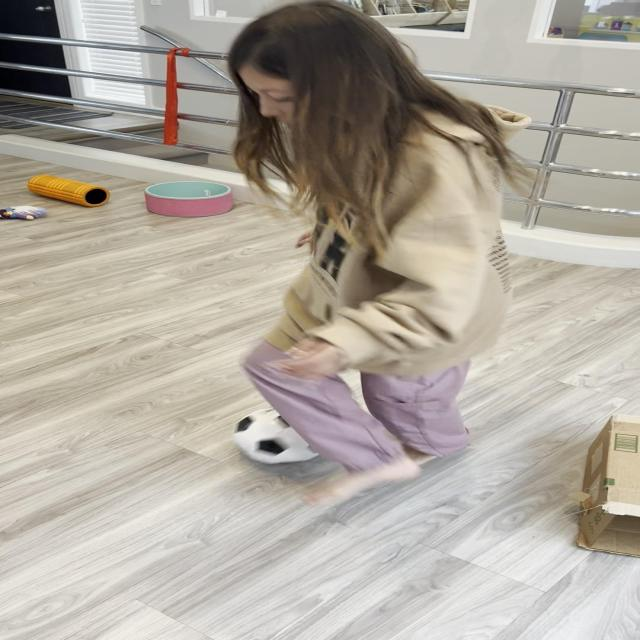Soccer Ball: (232, 406, 330, 463)
